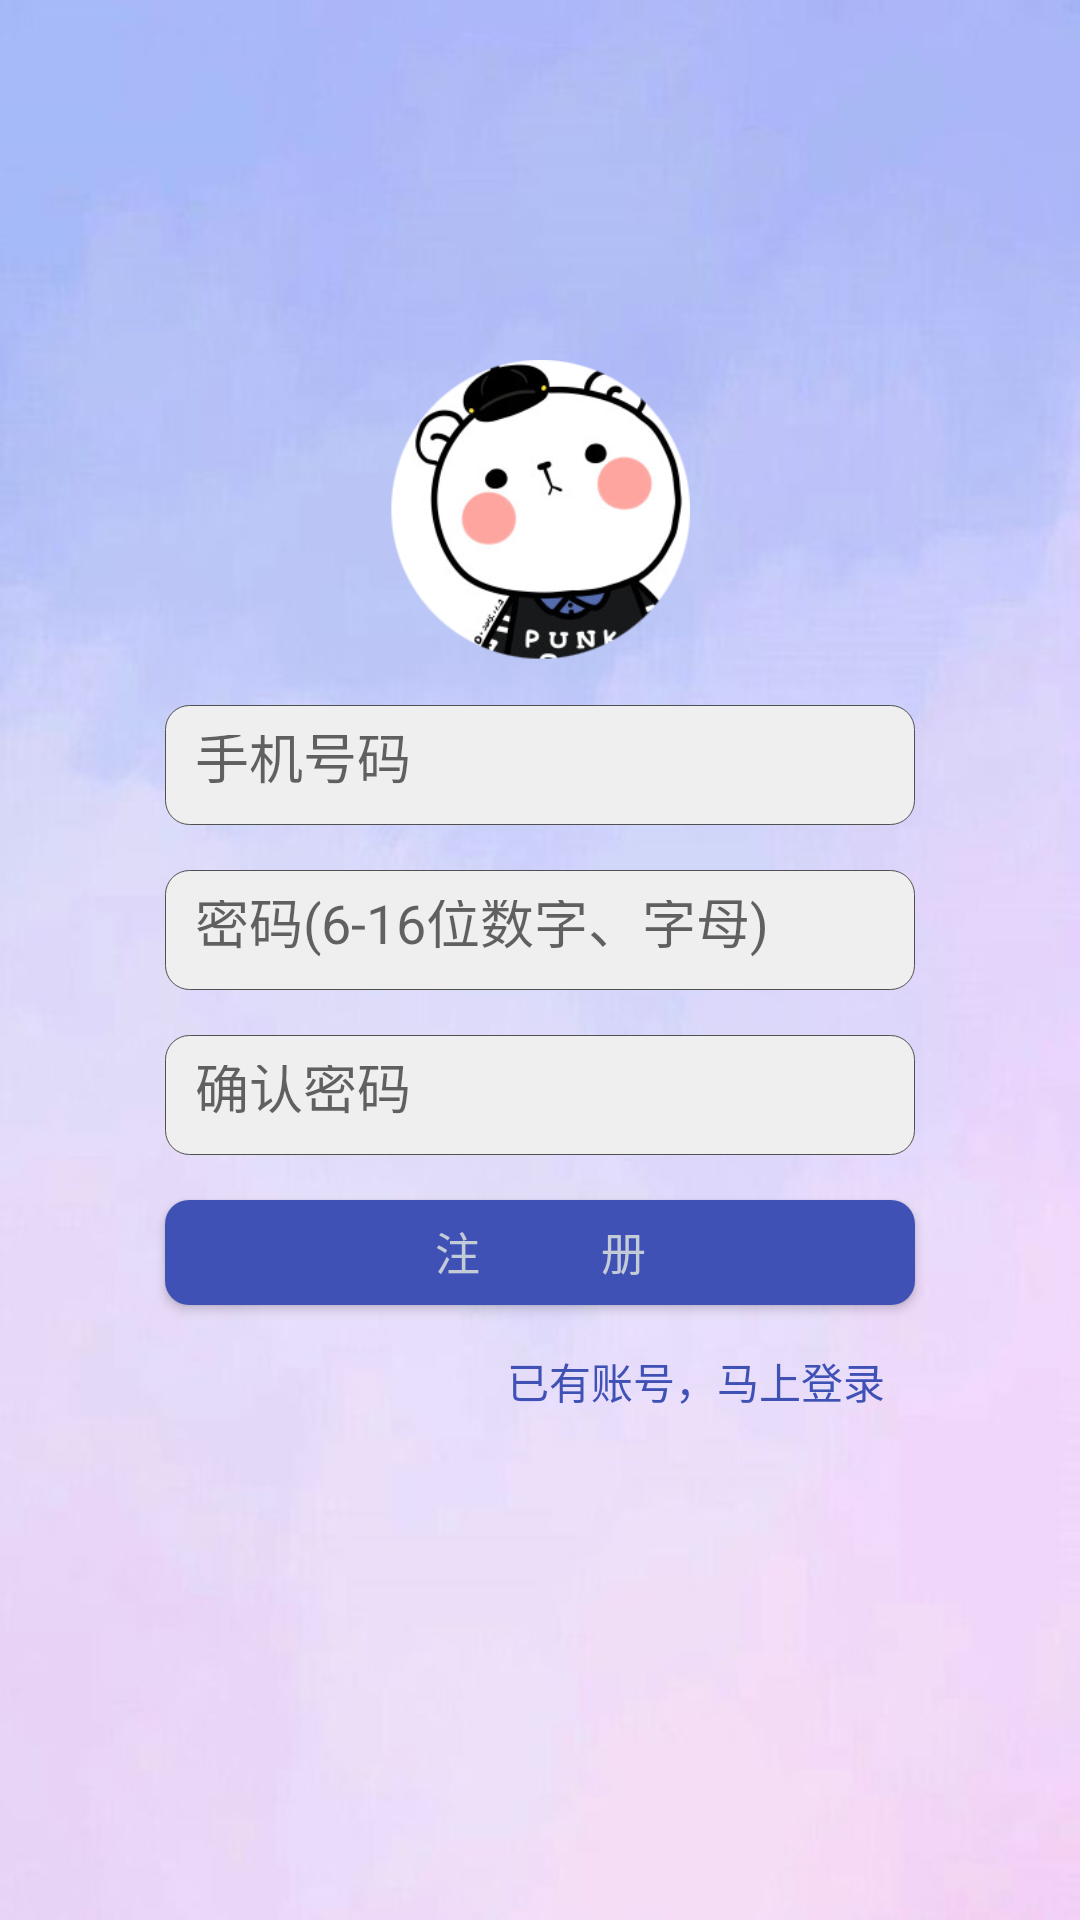

Where icons sit on this 1080px×1920px app screen, as (x1, y1, x2, y2):
head: (391, 360, 690, 659)
